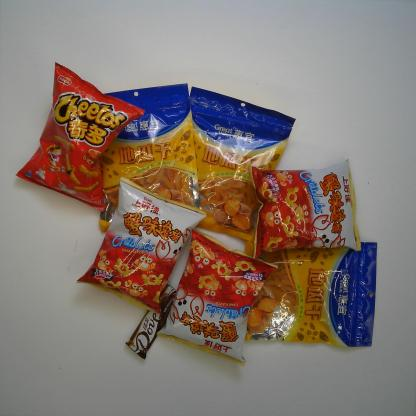Chocolate: (124, 282, 178, 360)
Dried Fruit: (182, 86, 297, 242), (96, 82, 202, 232), (236, 241, 378, 348)
Puffed Food: (16, 60, 145, 211), (75, 175, 208, 314), (154, 226, 278, 368), (248, 157, 362, 260)
